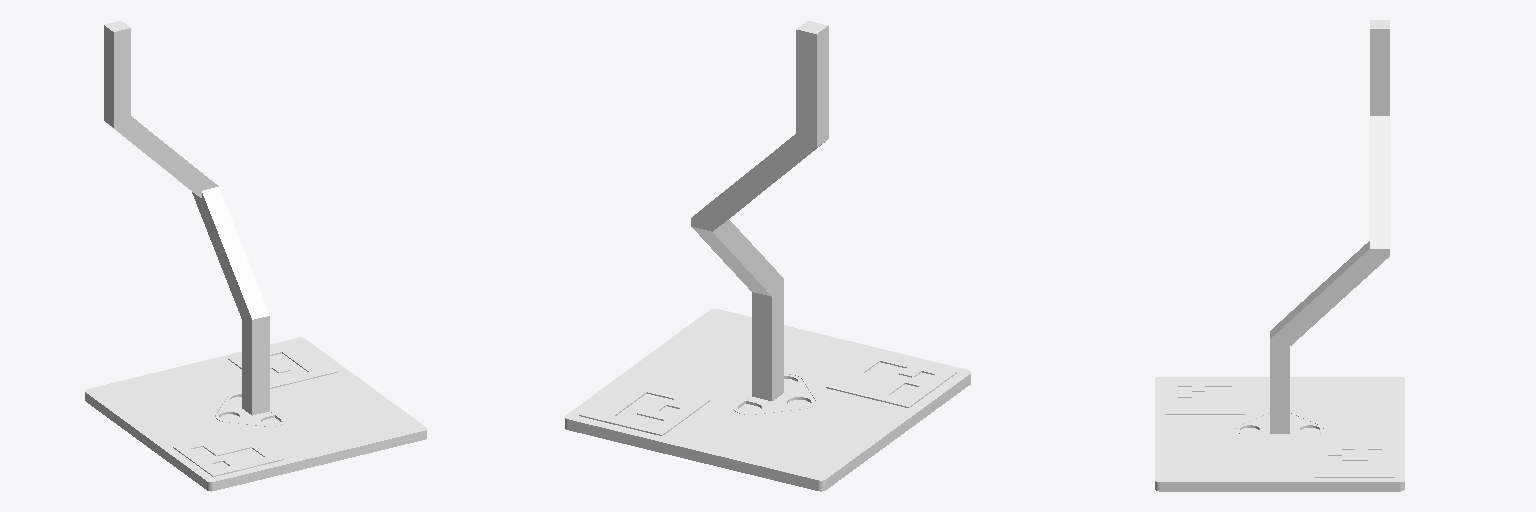
URDF robot description (maze):
<?xml version="1.0"?>
<robot name="maze">
  <link name="mazeLink">
    <!-- <inertial>
      <origin rpy="0 0 0" xyz="0 0 0" />
      <mass value="0.0" />
      <inertia ixx="0" ixy="0" ixz="0" iyy="0" iyz="0" izz="0" />
    </inertial> -->
    <visual>
      <origin xyz="0 0 1.5708" rpy="0 0 0" />
      <geometry>
        <mesh filename="package://robot/mazes/ROB_C.obj" scale="1 1 1" />
      </geometry>
      <material name="white">
        <color rgba="1 1 1 1" />
      </material>
    </visual>
    <collision>
      <origin xyz="0 0 0.025" rpy="0 0 0" />
      <geometry>
        <box size="0.01 0.01 0.05" />
      </geometry>
    </collision>
    <collision>
      <origin xyz="0 0.025 0.075" rpy="-0.7854 0 0" />
      <geometry>
        <box size="0.01 0.01 0.070710678118655" />
      </geometry>
    </collision>
    <collision>
      <origin xyz="-0.025 0.05 0.125" rpy="0 -0.7854 0" />
      <geometry>
        <box size="0.01 0.01 0.070710678118655" />
      </geometry>
    </collision>
    <collision>
      <origin xyz="-0.05 0.05 0.175" rpy="0 0 0" />
      <geometry>
        <box size="0.01 0.01 0.05" />
      </geometry>
    </collision>
  </link>
</robot>

--- Render facts (derived) ---
Views: 3 orthographic renders of the robot side by side, from view 1: azimuth 30°, elevation 25°; view 2: azimuth 150°, elevation 25°; view 3: azimuth 270°, elevation 25°.
Robot: maze — 1 links, 0 joints (none); root link mazeLink; default pose: every joint at zero.
Links seen in each view (by area): view 1: mazeLink; view 2: mazeLink; view 3: mazeLink.
Link boxes in pixels (x1=…): mazeLink: x1=85, y1=21, x2=426, y2=491; mazeLink: x1=565, y1=21, x2=970, y2=491; mazeLink: x1=1155, y1=20, x2=1404, y2=491.
Size in the robot's own frame: 0.125 by 0.125 by 0.205 metres.
Meshes: 1 distinct files referenced, 1 mesh visuals loaded (1 OBJ).
